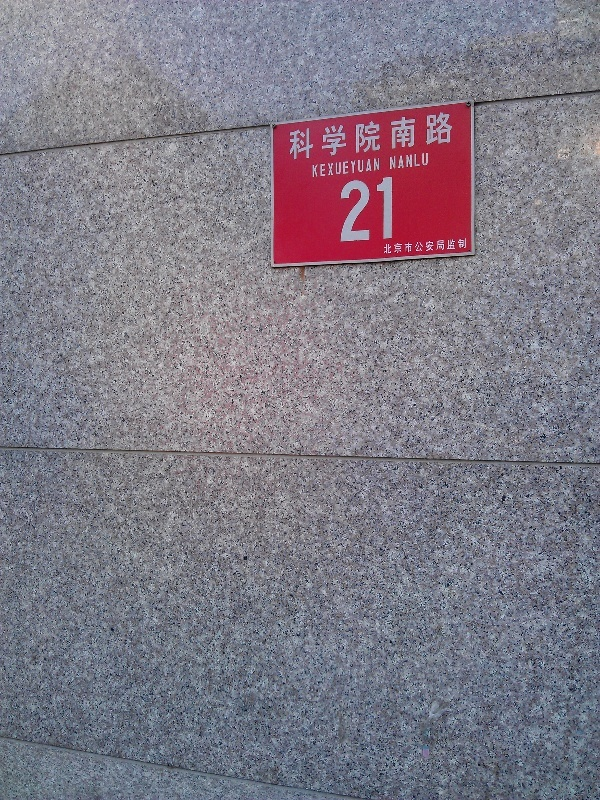text: (353, 175, 368, 243), (369, 175, 384, 243), (339, 175, 352, 243), (289, 111, 304, 162), (305, 111, 320, 162), (321, 111, 336, 162), (337, 111, 352, 162), (353, 111, 368, 162), (369, 111, 384, 162), (385, 111, 400, 162), (401, 111, 416, 162), (417, 111, 432, 162), (433, 111, 448, 162), (385, 175, 394, 243), (321, 157, 336, 179), (337, 157, 352, 179), (353, 157, 368, 179), (369, 157, 382, 179), (401, 152, 416, 171), (449, 111, 454, 162), (385, 238, 400, 255), (401, 238, 416, 255), (417, 238, 432, 255), (433, 238, 448, 255), (449, 238, 464, 255), (417, 152, 430, 171), (388, 152, 400, 171), (312, 157, 320, 179), (465, 238, 467, 255)
